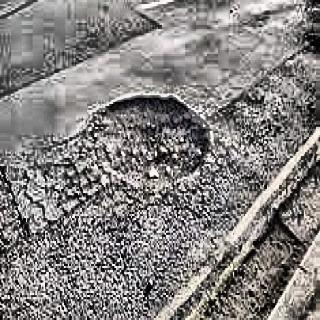alligator-crack: (21, 121, 88, 260)
pothole: (87, 92, 209, 185)
